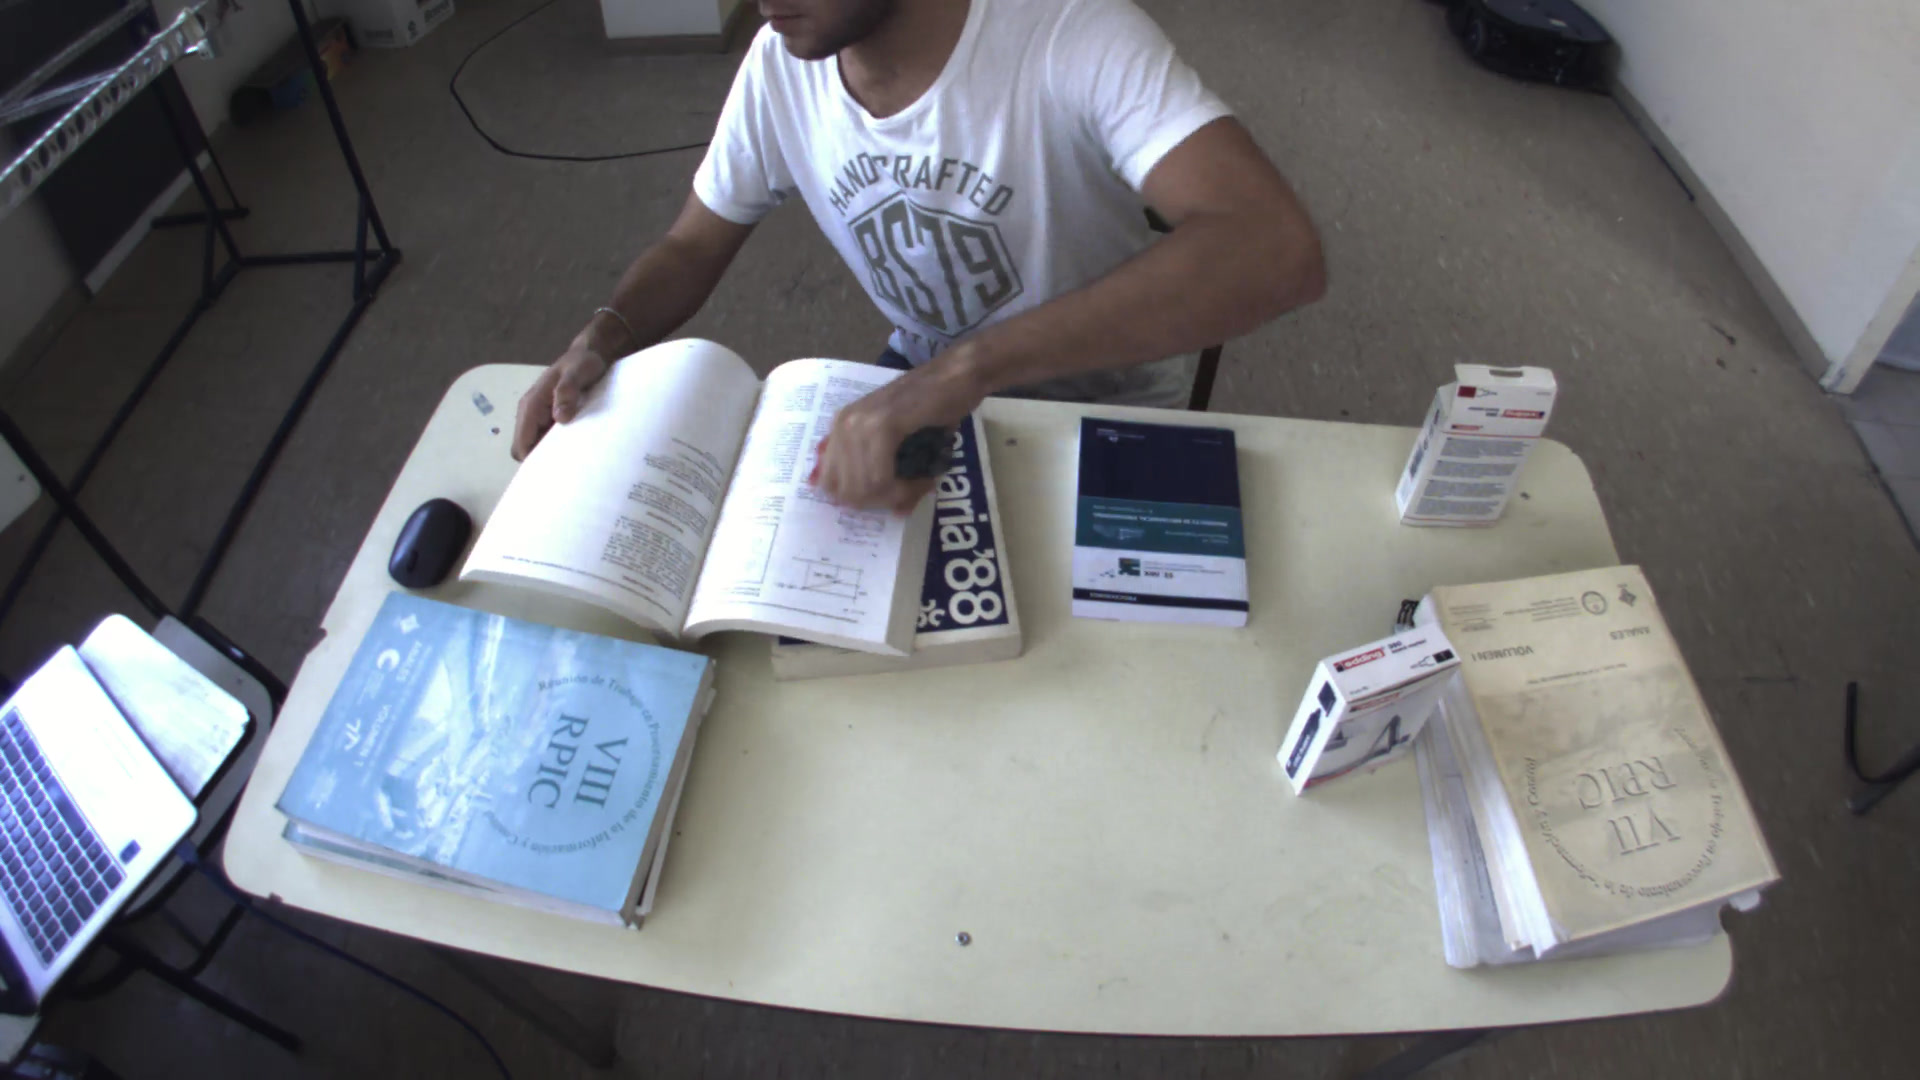hand: (800, 367, 956, 509), (500, 309, 626, 443)
